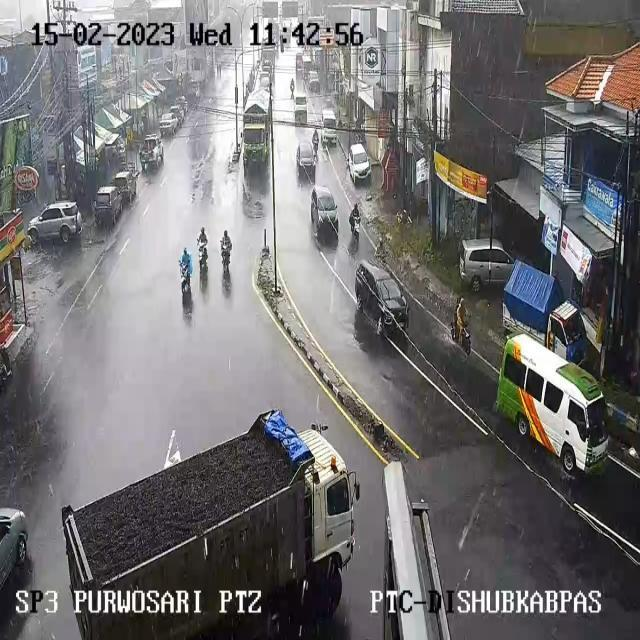Bus: (504, 333, 606, 482)
Car: (353, 260, 408, 341), (458, 237, 514, 292), (546, 302, 587, 365), (27, 202, 82, 246), (0, 509, 27, 595), (311, 186, 339, 240), (92, 186, 126, 226), (347, 143, 371, 184), (112, 169, 139, 203), (140, 135, 164, 171), (296, 141, 317, 177), (0, 347, 12, 389), (321, 108, 337, 139), (158, 113, 179, 135), (111, 139, 127, 165), (294, 94, 308, 123), (245, 65, 257, 97), (169, 105, 185, 125), (174, 96, 188, 118), (188, 79, 202, 98), (301, 52, 312, 76), (308, 75, 321, 93), (258, 71, 271, 88), (296, 53, 304, 74), (177, 73, 184, 96), (262, 59, 272, 75), (273, 38, 280, 59), (185, 96, 192, 112)
Motorbike: (451, 305, 471, 355), (178, 253, 195, 302), (220, 242, 230, 272), (349, 213, 360, 240), (376, 238, 388, 261), (198, 246, 208, 272), (313, 129, 321, 152), (290, 78, 296, 94)
Truck: (62, 414, 360, 618), (242, 87, 272, 168)
